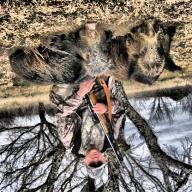boar: (20, 10, 114, 99), (104, 12, 182, 93)
